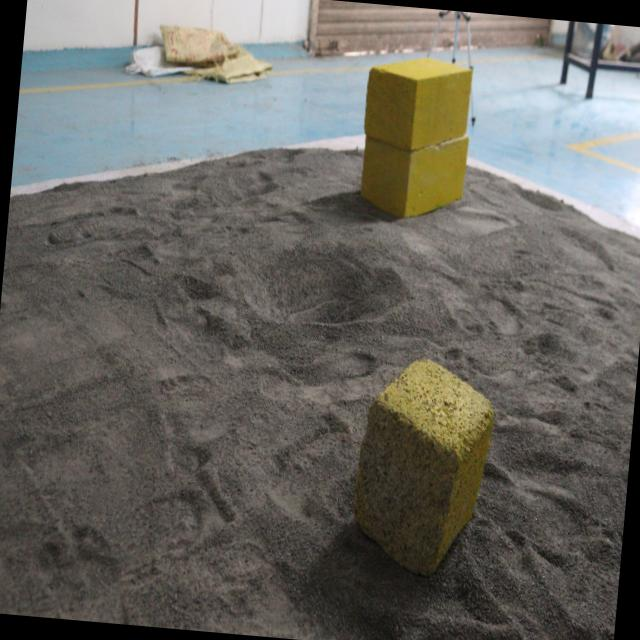box: (348, 350, 499, 583), (354, 42, 481, 225)
crater: (223, 216, 423, 346)
